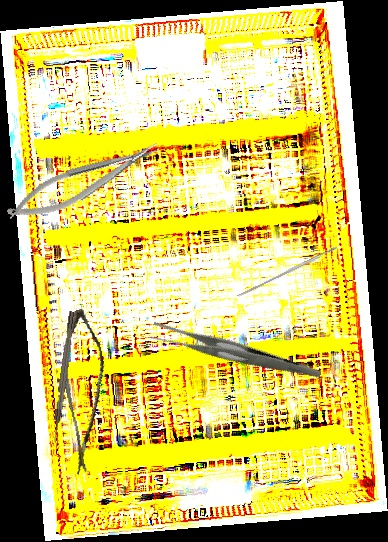Dressing Forceps: (146, 281, 322, 427)
Hook Surgical: (50, 311, 77, 443)
Micro Scissor: (44, 307, 126, 476)
Needle Holder: (1, 135, 167, 229)
Scalpel Handle: (236, 245, 339, 299)
